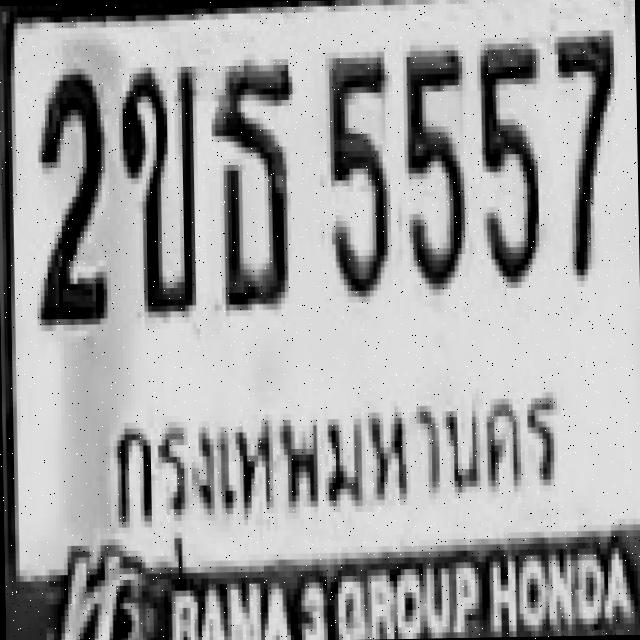11KhorKhai: (116, 61, 198, 312)
2: (31, 68, 106, 319)
33ThorThong: (208, 58, 294, 304)
5: (476, 37, 539, 282), (401, 44, 464, 284), (325, 52, 388, 290)
7: (552, 24, 615, 275)
Bangkok: (100, 382, 565, 524)
